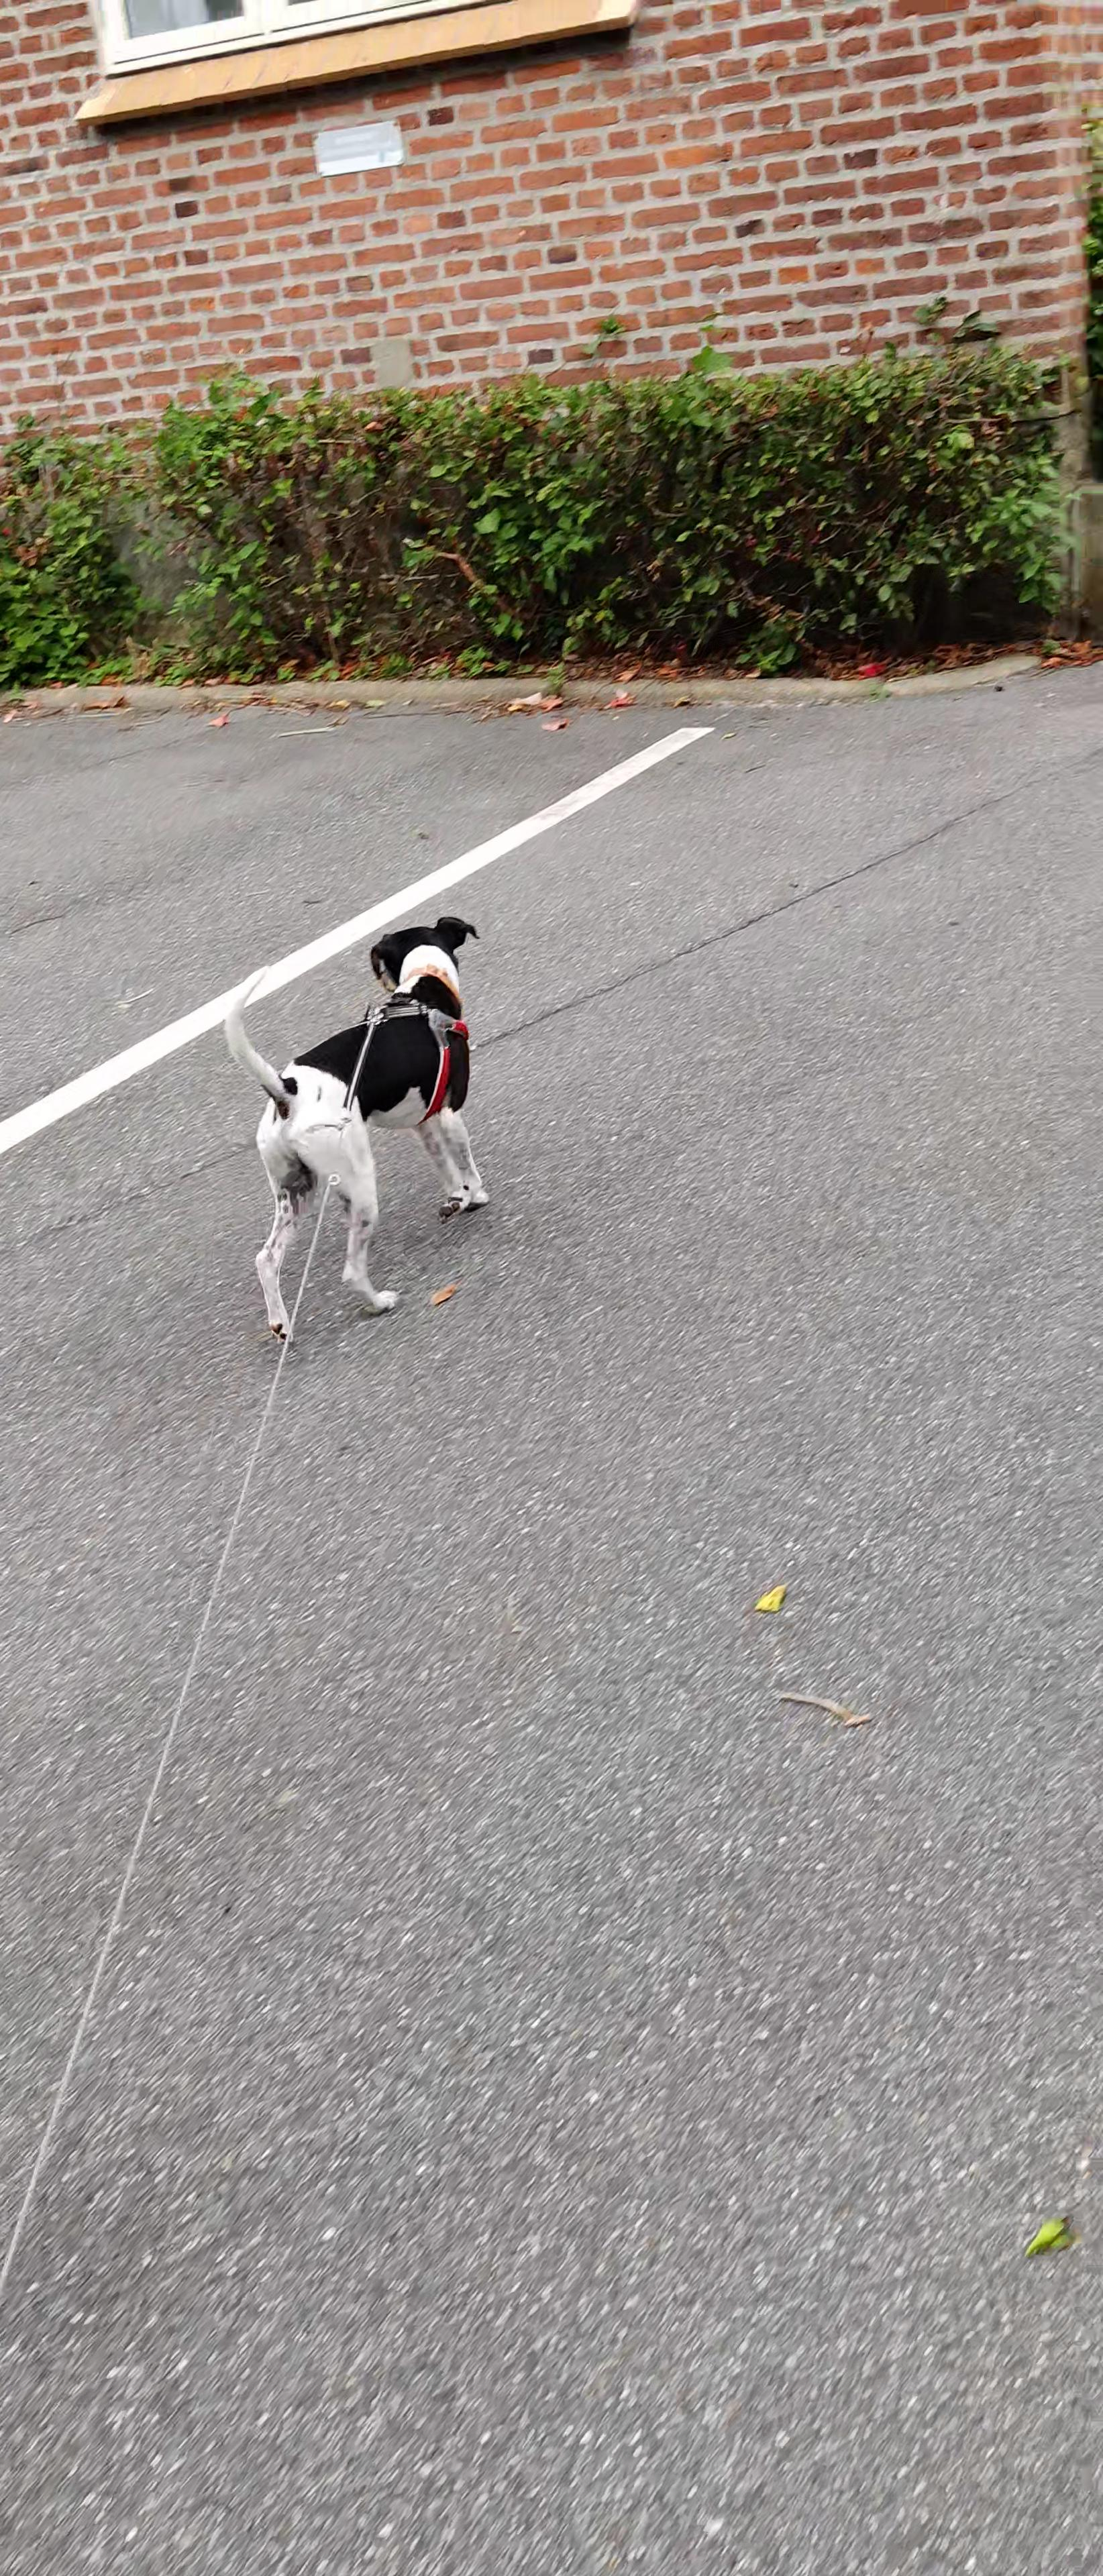Dog: (220, 912, 498, 1354)
